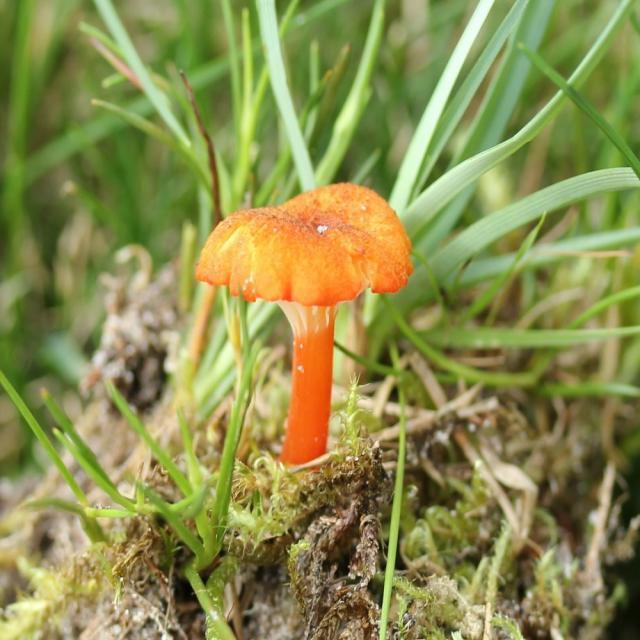Cantharellus cibarius: (199, 182, 413, 478)
